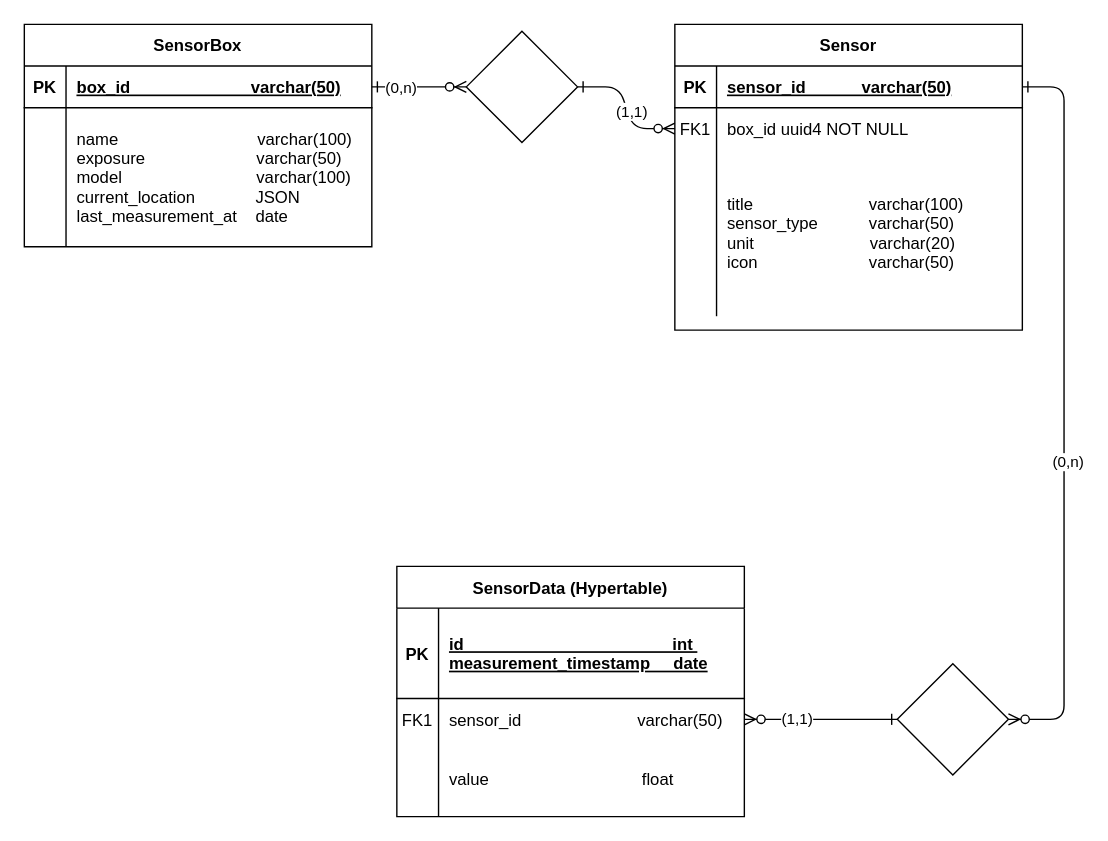
This 1108x841 diagram has some shape labels left out. Each missing label, with the centre of its shape:
"contains" goes at [521,86].
"measures" goes at [952,718].
